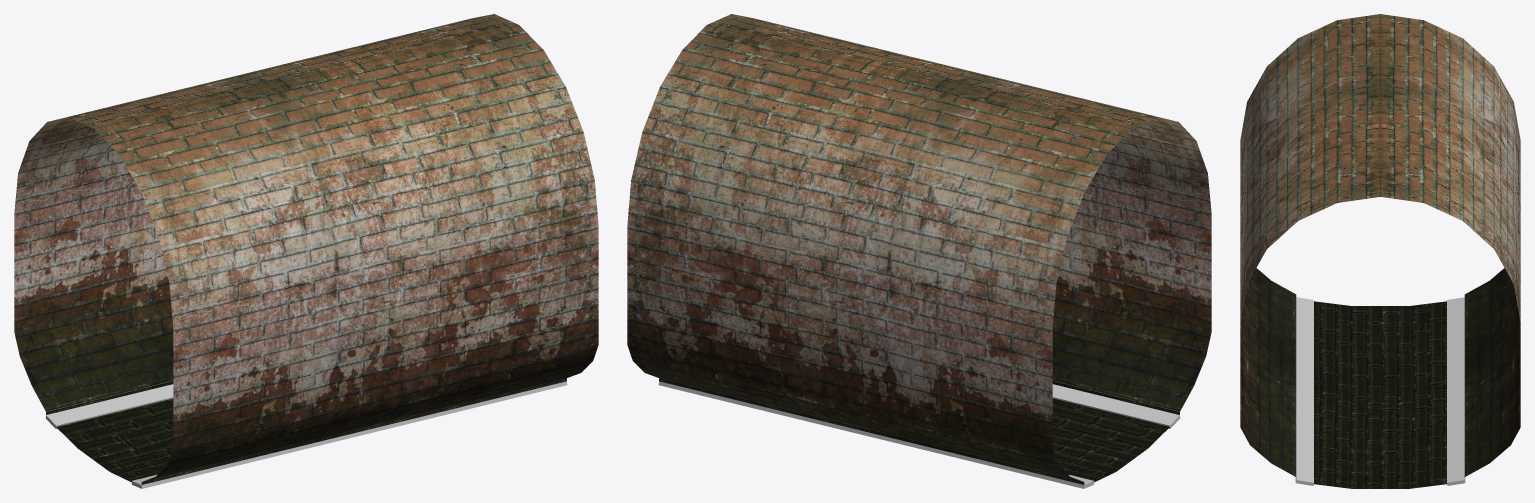
3 renders of one model, left to right at view 1: azimuth 30°, elevation 25°; view 2: azimuth 150°, elevation 25°; view 3: azimuth 270°, elevation 25°, orthographic. The views are drawn at different scales.
Visible parts, largest first — view 1: tunnel_low, tunnel_low_floor, tunnel_low_drain; view 2: tunnel_low, tunnel_low_floor, tunnel_low_drain; view 3: tunnel_low, tunnel_low_floor, tunnel_low_drain.
Boxes of the visible parts, box(x1,y1,x2,y2) form: tunnel_low: box(14, 14, 598, 484); tunnel_low_floor: box(56, 398, 173, 482); tunnel_low_drain: box(45, 381, 567, 488); tunnel_low: box(627, 14, 1211, 484); tunnel_low_floor: box(1052, 398, 1169, 482); tunnel_low_drain: box(658, 381, 1180, 488); tunnel_low: box(1240, 14, 1520, 476); tunnel_low_floor: box(1314, 301, 1446, 488); tunnel_low_drain: box(1295, 297, 1465, 485).
Size of the model in its own units: 4 by 2.59 by 2.98.
